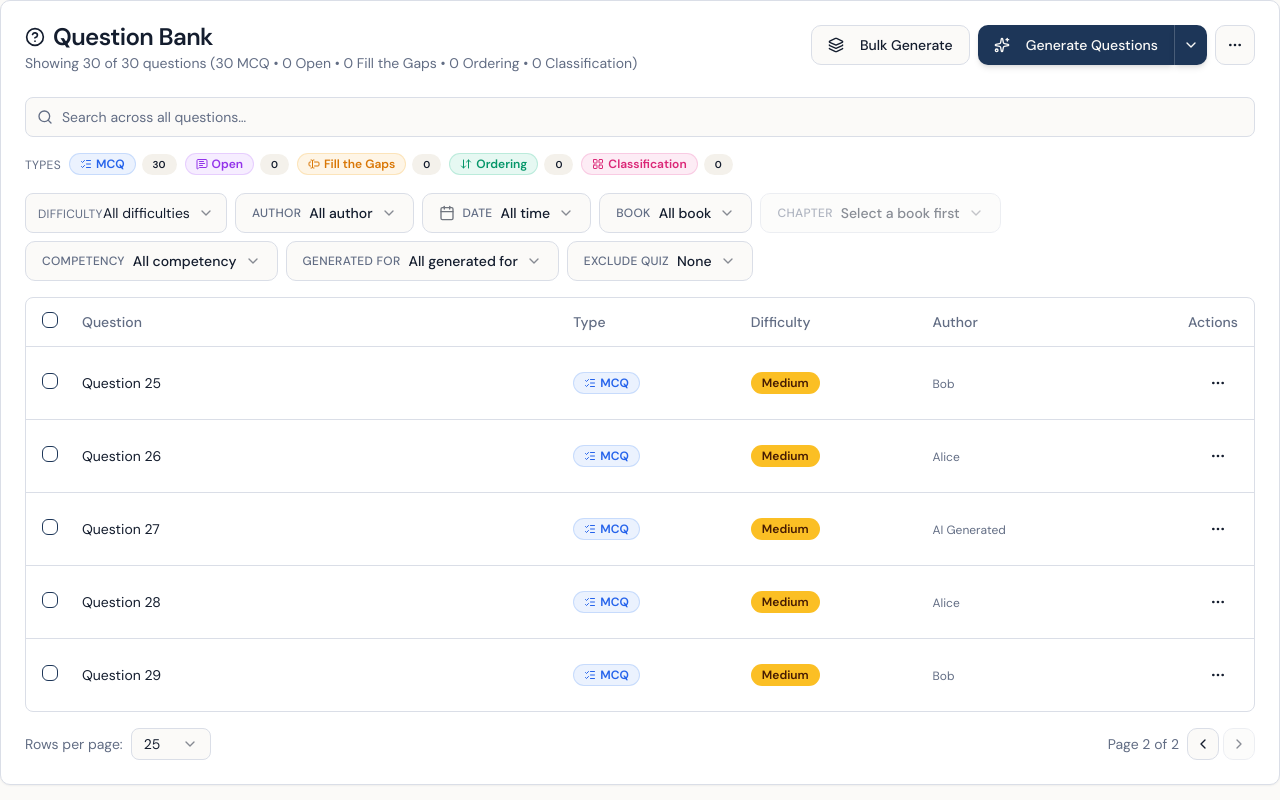
Test: UnifiedQuestionBank #623 › changing a filter resets pagination to page 1
Check: the text with test id "bank-page-indicator" reads "Page 2 of 2", box left=1108, top=734, right=1179, bottom=754
Click the button with test id "book-filter" at (676, 213), box left=599, top=193, right=752, bottom=233
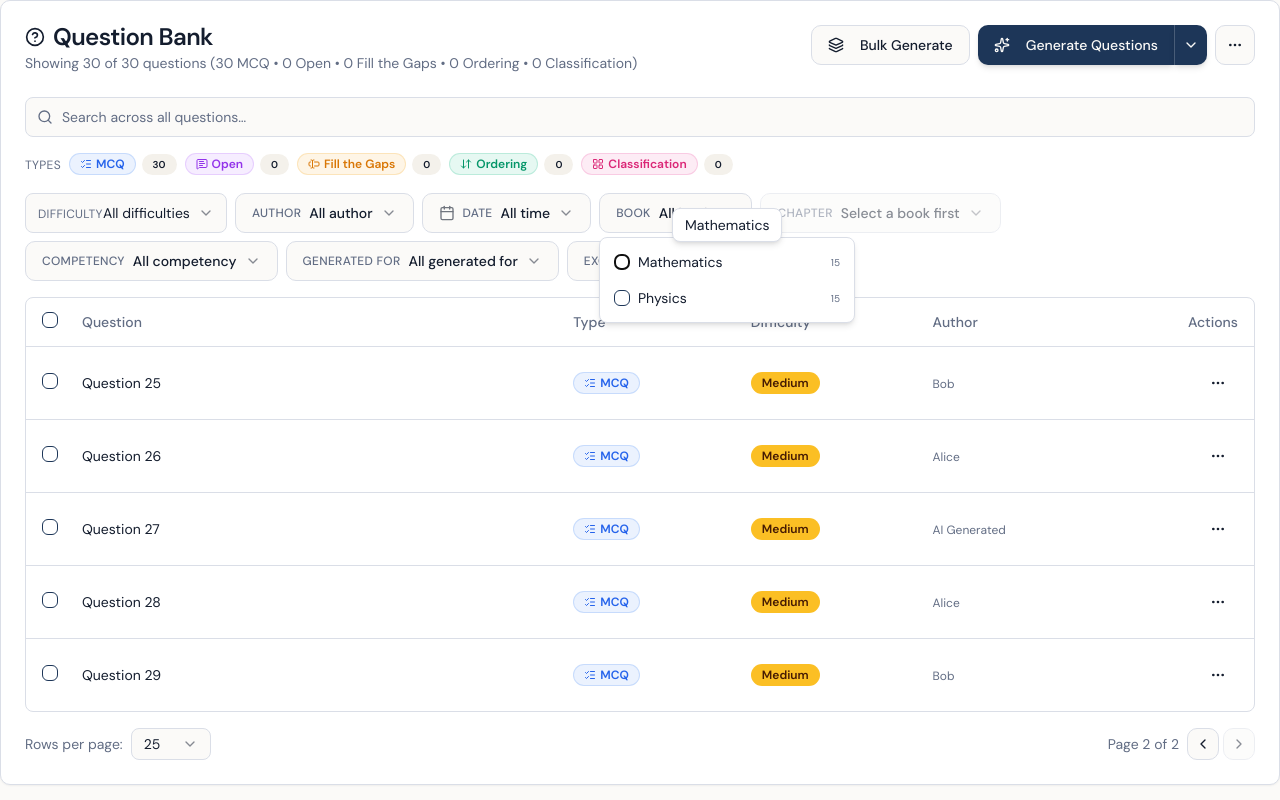
Click the 1st checkbox at (622, 262), box left=614, top=254, right=630, bottom=270
(page scrolled)
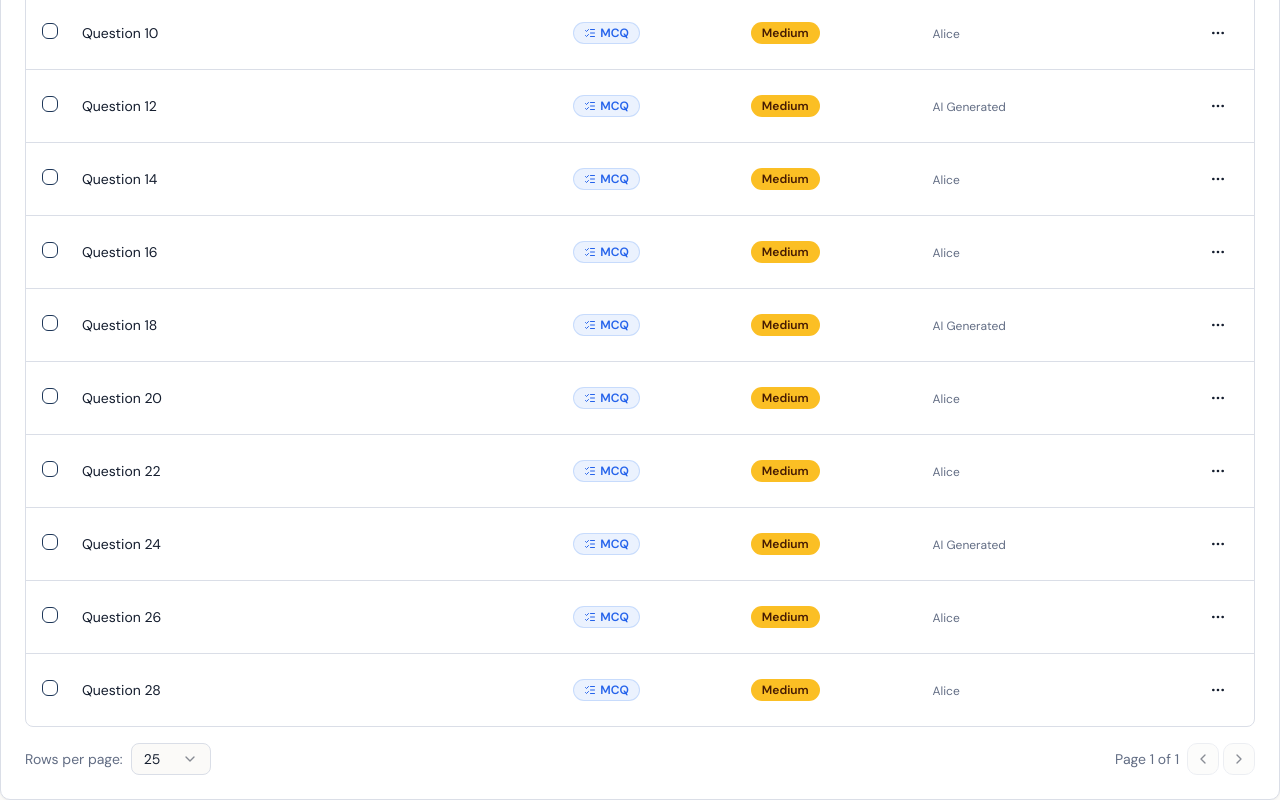
Check: the text with test id "bank-page-indicator" reads "Page 1 of 1", box left=1115, top=748, right=1179, bottom=768
